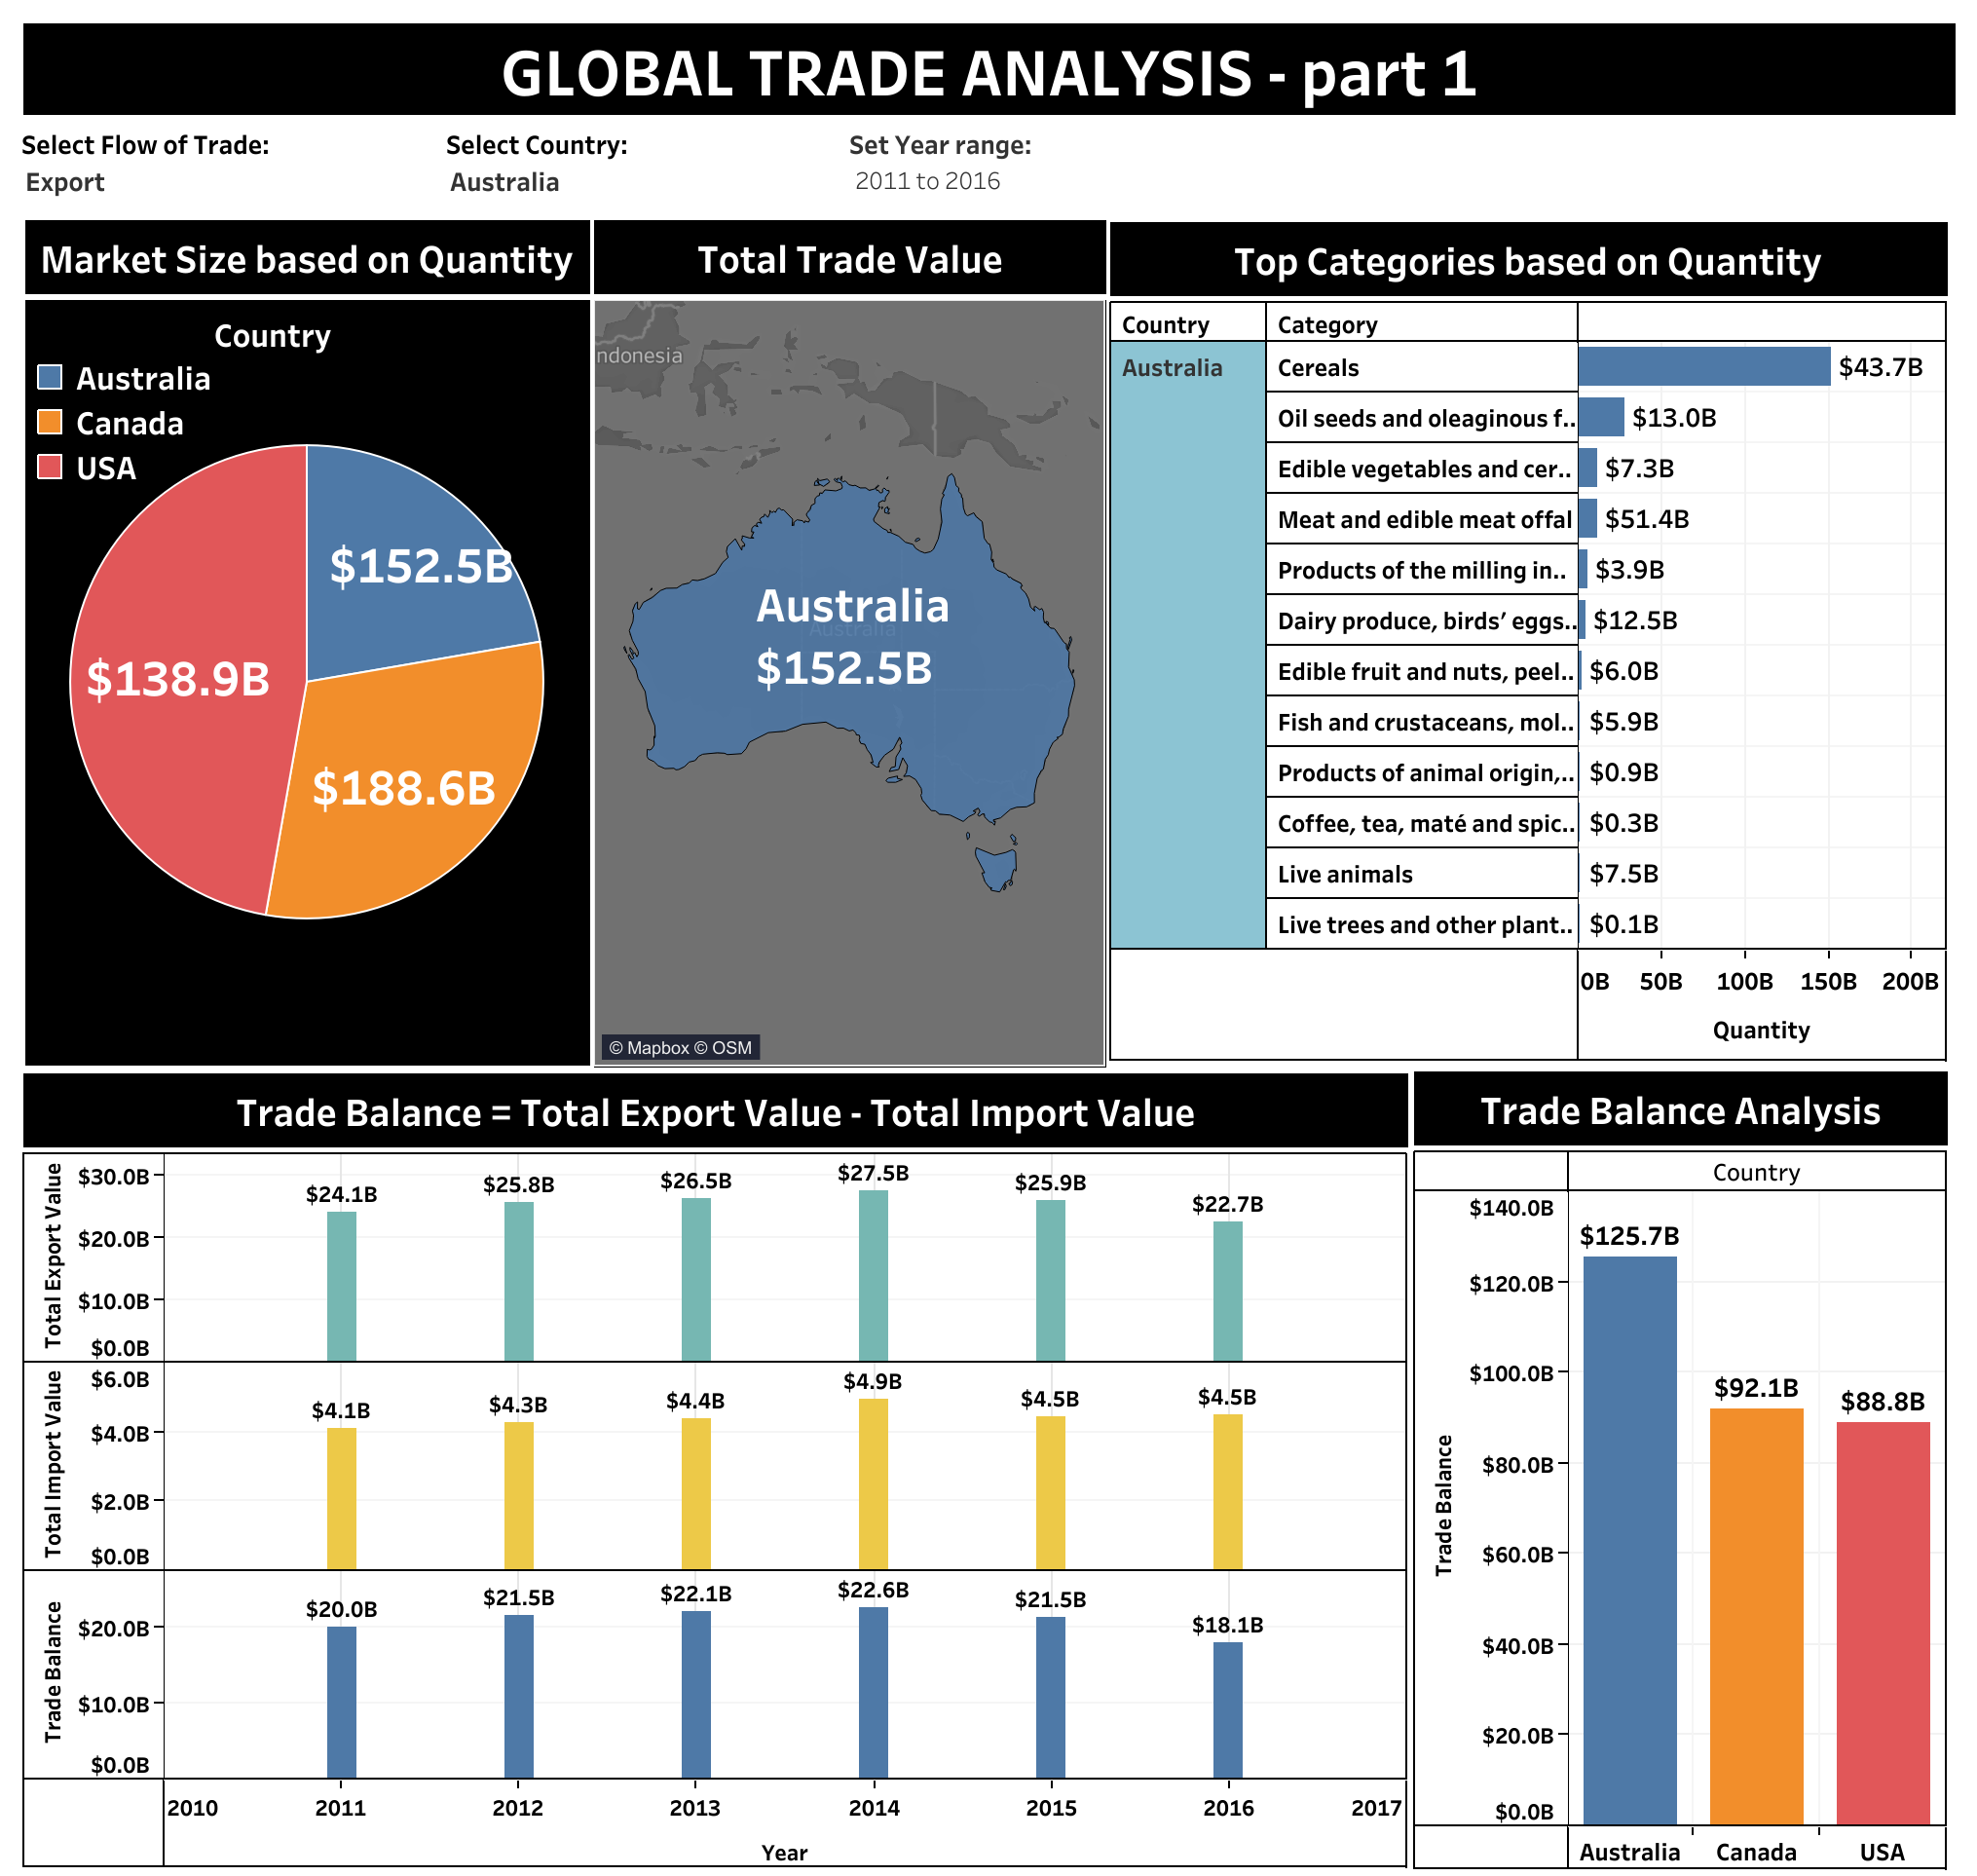

Layout of this report page (visuals, bound fields, positions):
{"tool":"tableau","page":{"name":"GLOBAL TRADE ANALYSIS - 1 ","canvas":[1016,964],"ordinal":0},"visuals":[{"type":"title","box":[8,8,1000,55]},{"type":"filter","title":"Total Trade Value ","param":"[federated.1bxhuul1wvcy0012xsuoj0f1pn9y].[none:Flow:nk]","box":[11,63,215,51]},{"type":"filter","title":"Total Trade Value ","param":"[federated.1bxhuul1wvcy0012xsuoj0f1pn9y].[none:Country:nk]","box":[229,63,202,45]},{"type":"filter","title":"Trade Balance","param":"[federated.1bxhuul1wvcy0012xsuoj0f1pn9y].[none:Year:qk]","box":[436,63,565,49]},{"type":"worksheet","title":"Market Size","mark":"Pie","box":[13,113,320,434]},{"type":"worksheet","title":"Total Trade Value ","mark":"Multipolygon","box":[305,113,263,435]},{"type":"worksheet","title":"Top Categories based on Quantity","mark":"Automatic","rows":["Country","Category"],"cols":["Quantity"],"box":[570,114,430,438]},{"type":"legend","title":"Market Size","param":"[federated.1bxhuul1wvcy0012xsuoj0f1pn9y].[none:Country:nk]","box":[14,158,250,119]},{"type":"worksheet","title":"Trade Balance Analysis","mark":"Automatic","rows":["Calculation_797418645337538563"],"cols":["Country"],"box":[726,550,274,410]},{"type":"worksheet","title":"Trade Balance","mark":"Bar","rows":["Flow (copy)","Flow (copy 2)","Calculation_797418645337538563"],"cols":["Year"],"box":[12,551,711,408]}]}

Visuals, with their boxes in screenshot pixels (x1, y1, x2, y2), scaled from the page's 1016x964 canvas onto the 1977x1876 screenshot:
title: BBox(16, 16, 1961, 123)
"Total Trade Value " filter: BBox(21, 123, 440, 222)
"Total Trade Value " filter: BBox(446, 123, 839, 210)
"Trade Balance" filter: BBox(848, 123, 1948, 218)
"Market Size" worksheet (Pie marks): BBox(25, 220, 648, 1065)
"Total Trade Value " worksheet (Multipolygon marks): BBox(593, 220, 1105, 1067)
"Top Categories based on Quantity" worksheet: BBox(1109, 222, 1946, 1074)
"Market Size" legend: BBox(27, 308, 513, 539)
"Trade Balance Analysis" worksheet: BBox(1413, 1070, 1946, 1868)
"Trade Balance" worksheet (Bar marks): BBox(23, 1072, 1407, 1866)
